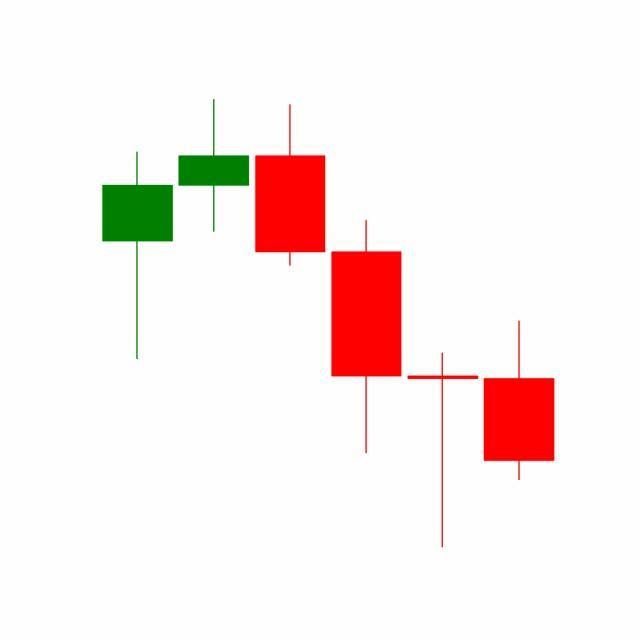Dragonfly Doji: (404, 351, 482, 551)
